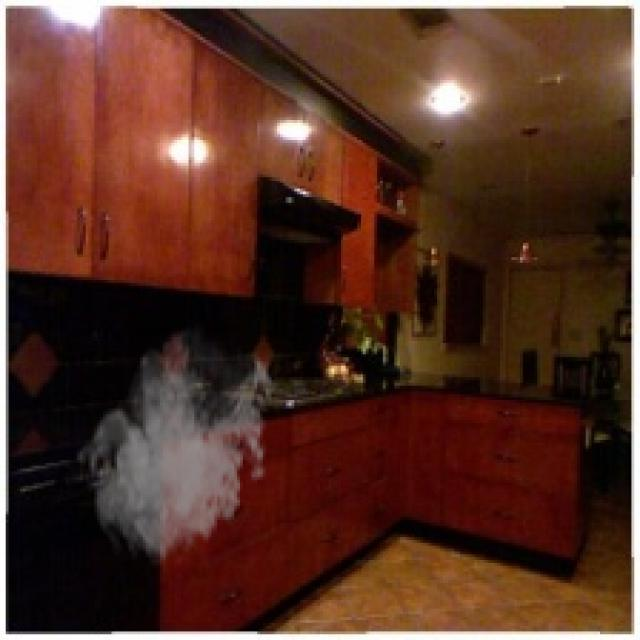Smoke: (74, 322, 277, 568)
